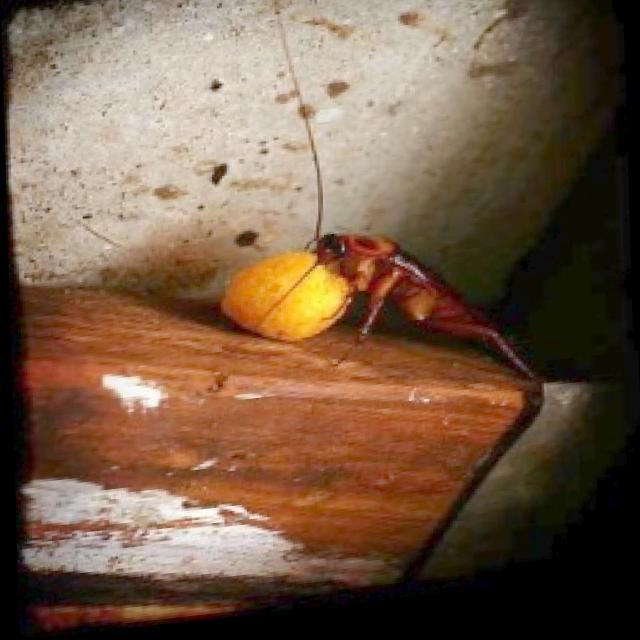cockroach: (266, 205, 581, 408)
